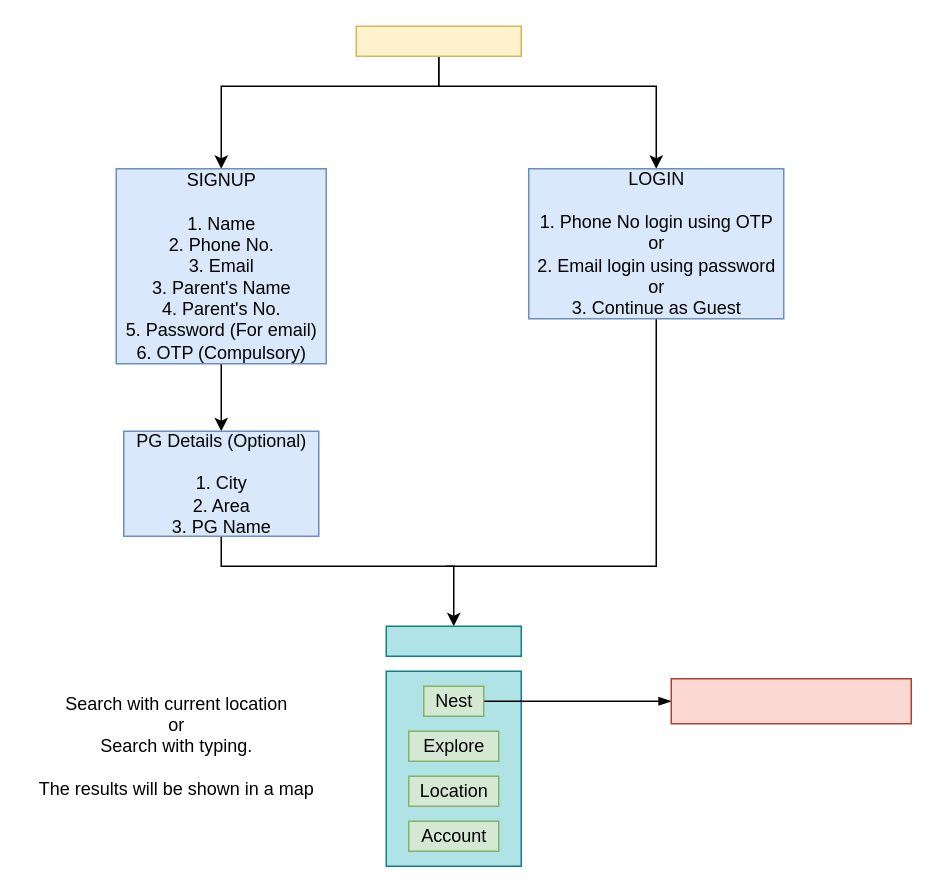
This 938x893 diagram has some shape labels left out. Each missing label, with the box of its shape:
Home Activity: (385, 625, 521, 656)
Show few latest PGs and Best PGs in various ratings: (670, 677, 911, 724)
STUDENT'S APP: (355, 25, 521, 56)
